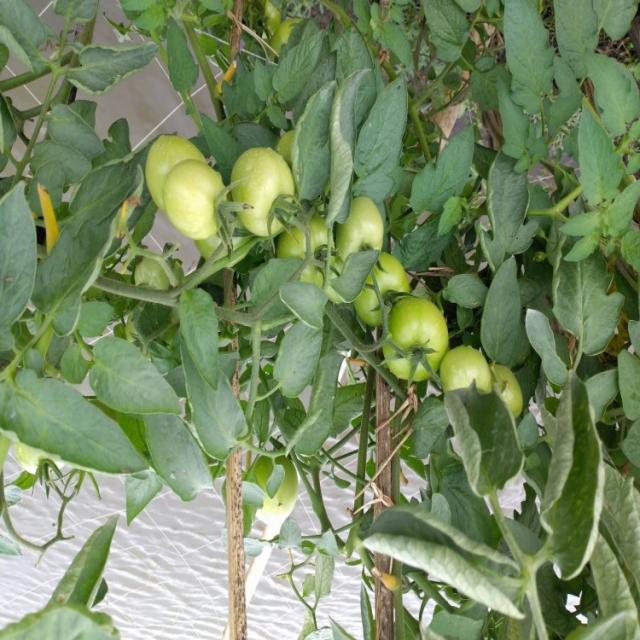tomato: (383, 293, 455, 386), (158, 162, 235, 244), (232, 142, 299, 236), (280, 213, 344, 294), (441, 340, 500, 411), (255, 459, 305, 532), (336, 194, 386, 266), (358, 254, 409, 323), (143, 125, 205, 180), (491, 358, 530, 421), (268, 10, 296, 49)
